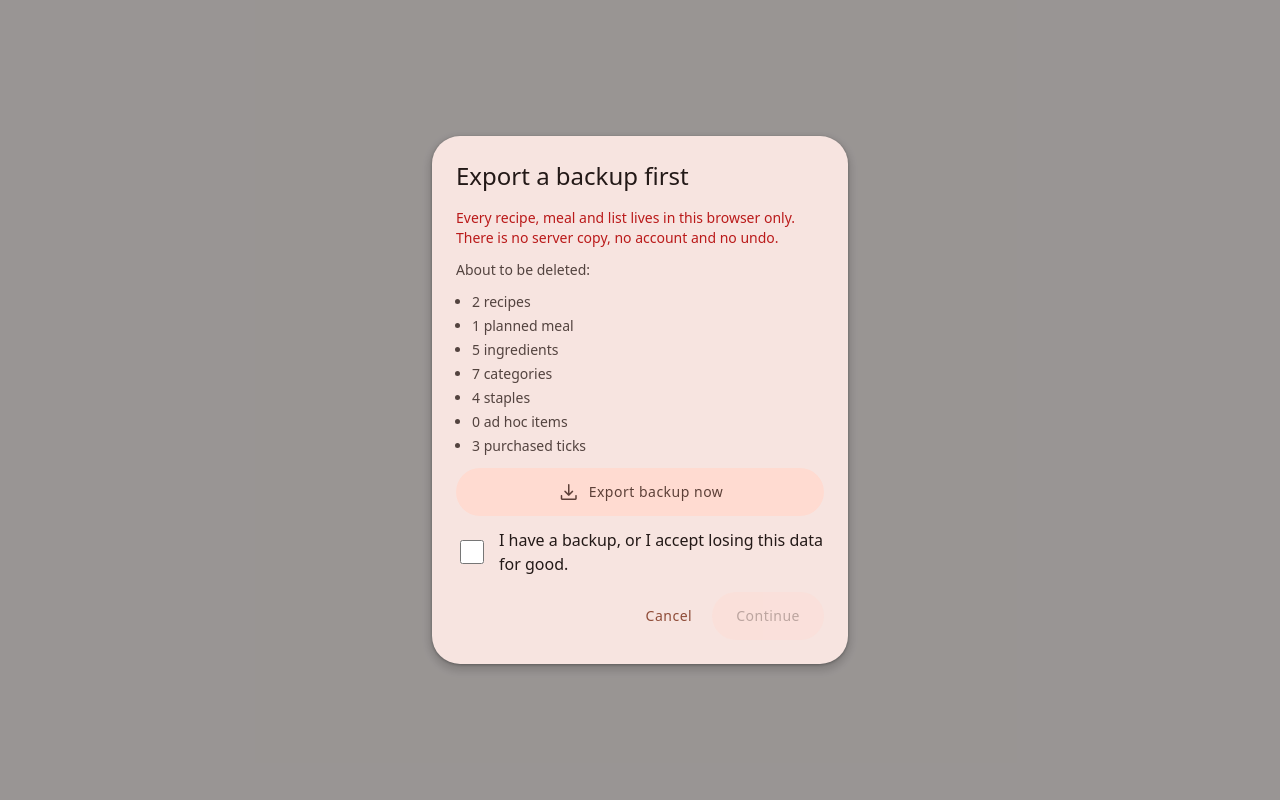
DeleteAllDataDialog › BR-20 unlocks the second step only once the loss is acknowledged
Expected: the button "Continue" is disabled, x1=712 y1=592 x2=824 y2=640
Click the checkbox labelled "I have a backup, or I accept losing this data for good." at x=472, y=552, box x1=460 y1=540 x2=484 y2=564
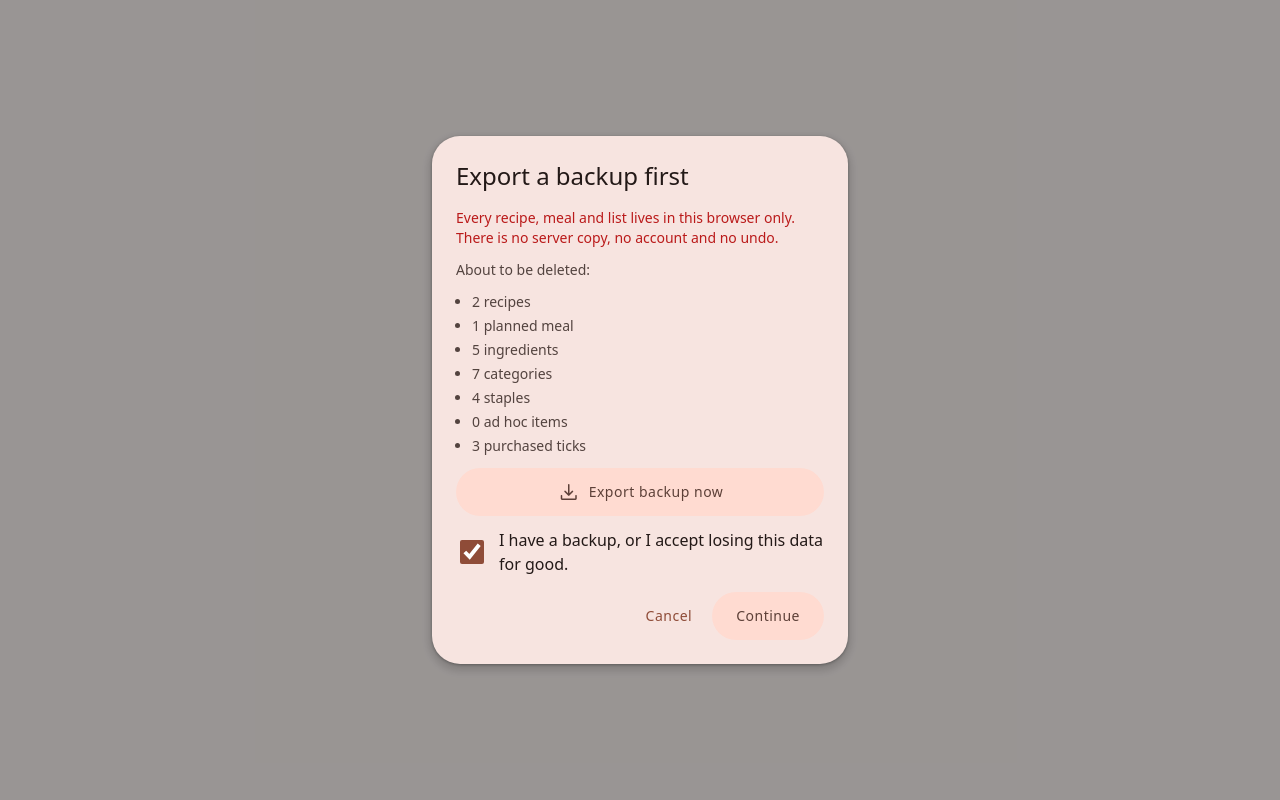
Result: the button "Continue" is enabled at x1=712 y1=592 x2=824 y2=640
